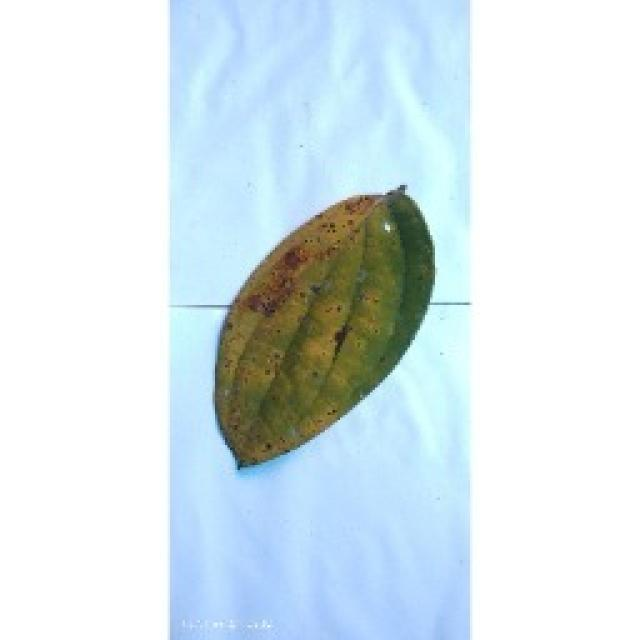slow-decline: (208, 182, 438, 472)
